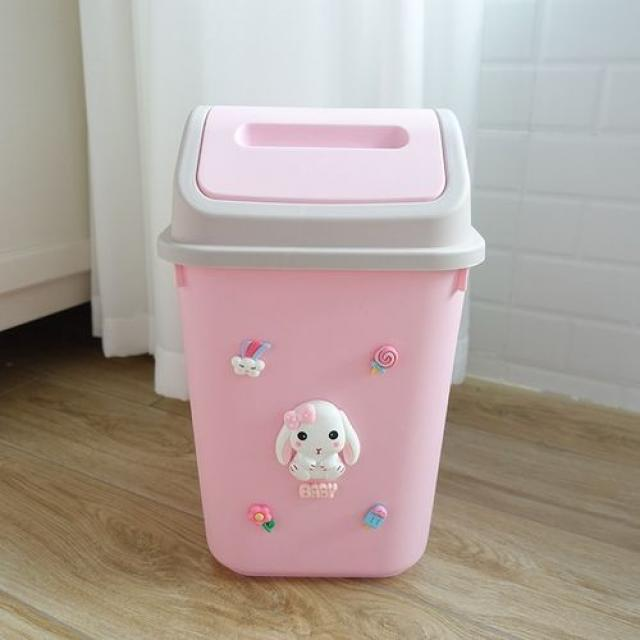Dustbin: (153, 96, 490, 584)
